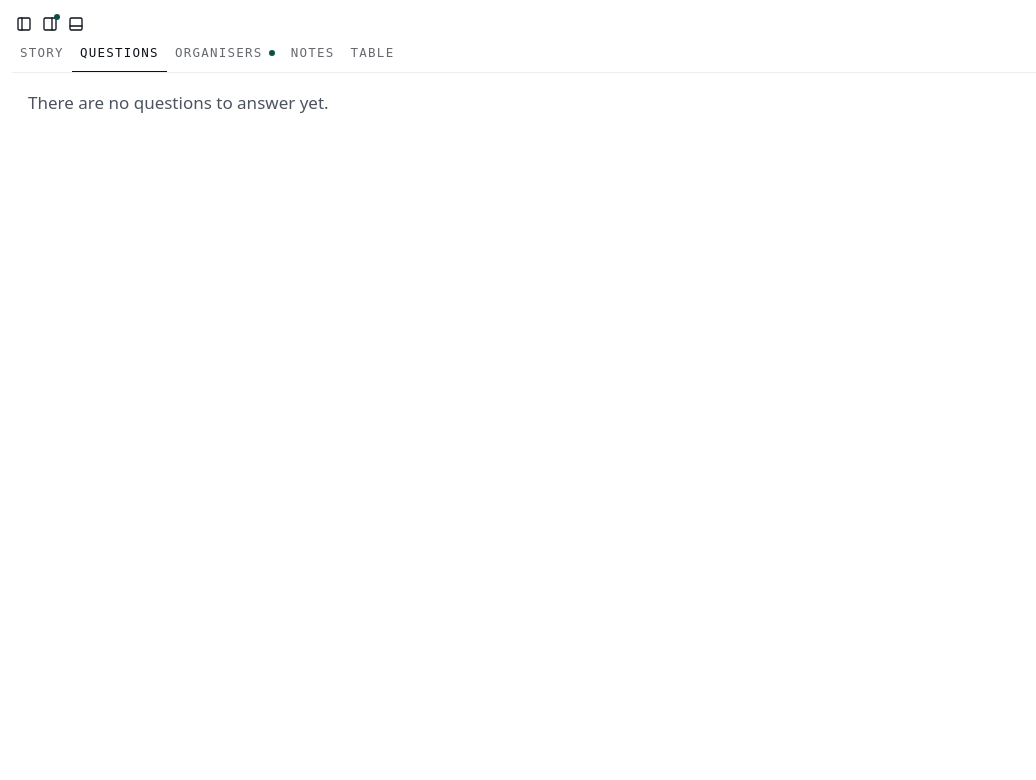
the questions to the organisers tab › raises a marker on the side panel's toggle in the header while something new waits
Expected: the element with test id "side-panel-marker" is shown, [54,14,60,20]
Click the tab "Organisers" at (225,54), box [167,36,283,73]
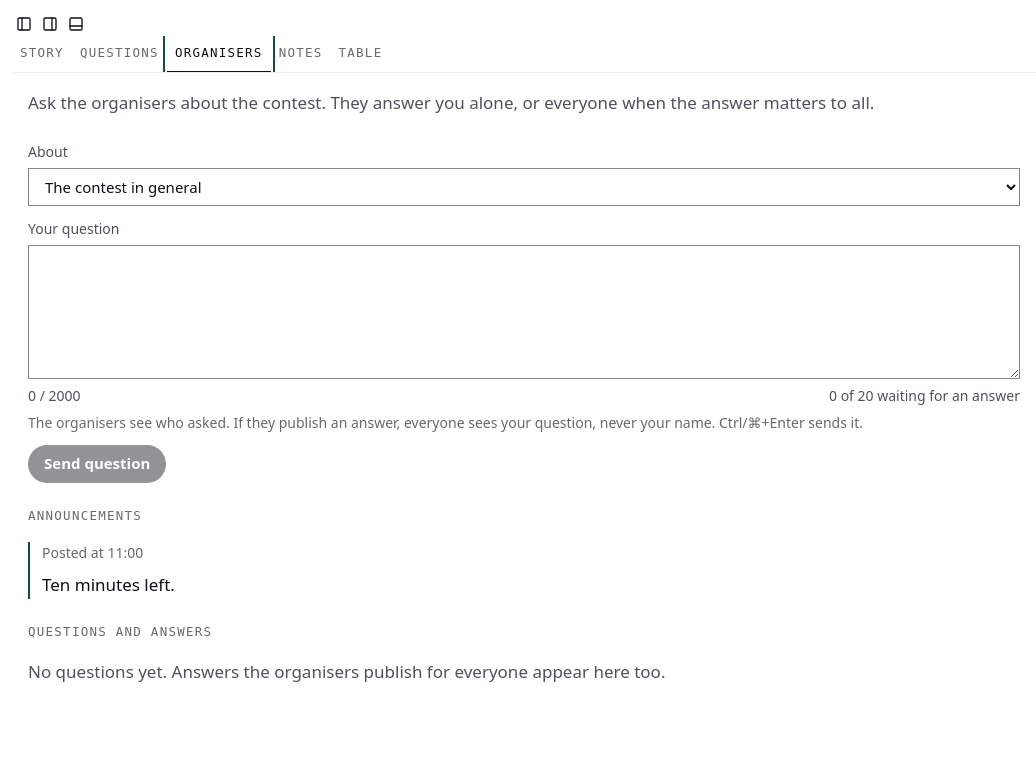
Now the element with test id "side-panel-marker" is gone
